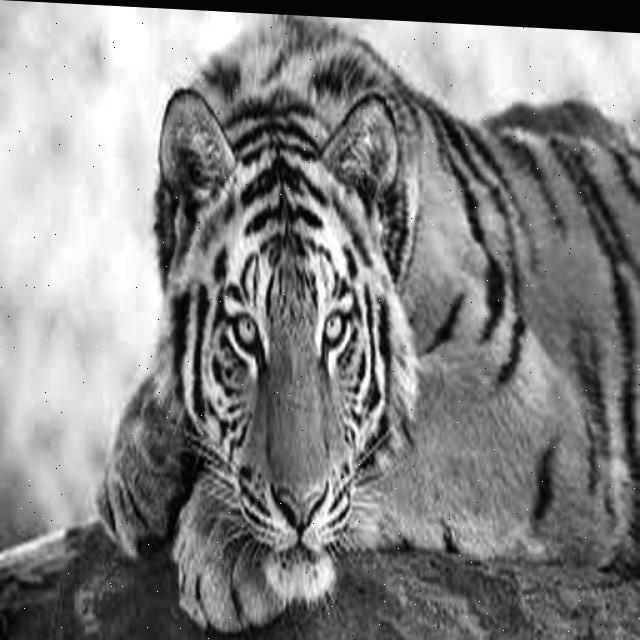Tiger: (92, 5, 638, 640)
